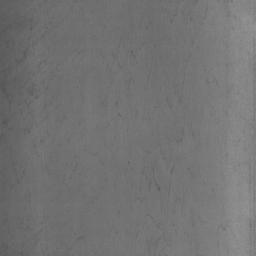Silk spot: (96, 0, 256, 256), (0, 0, 80, 180), (127, 123, 217, 256), (0, 162, 73, 256), (191, 241, 229, 256)
